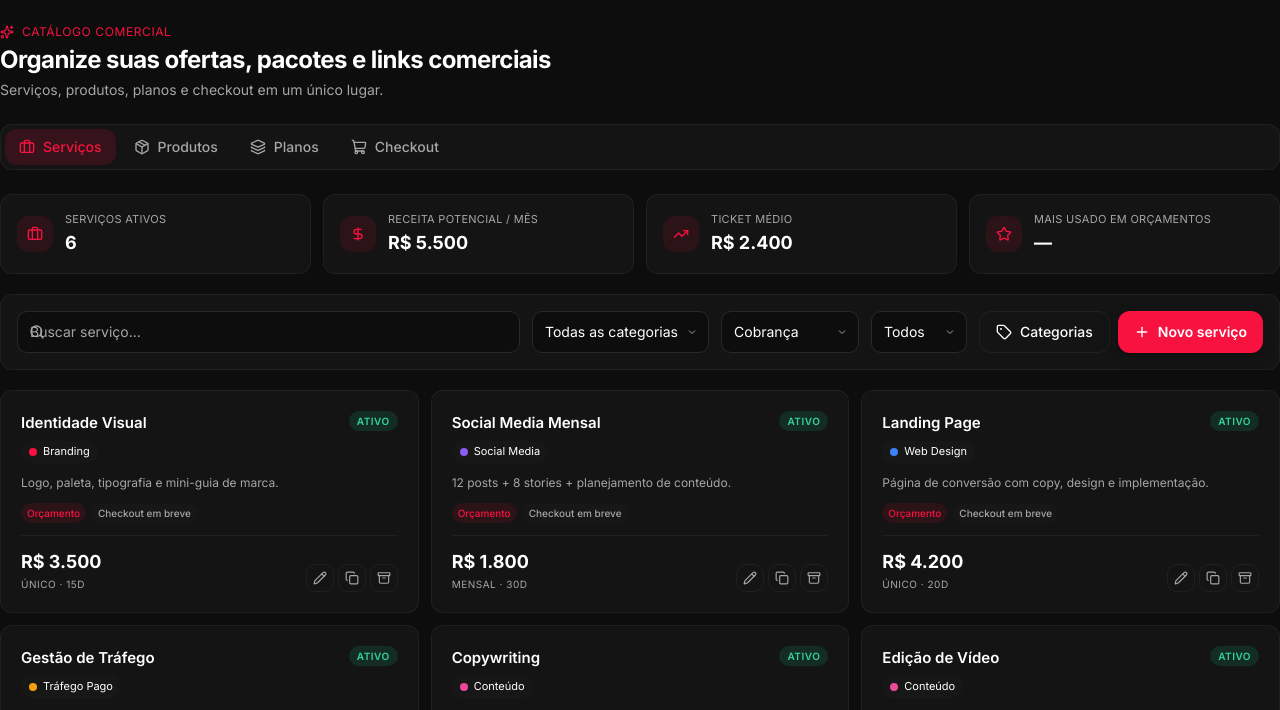
Test: Catálogo · fonte NUVEM › toggle do serviço: 'Selo interno “Portfólio” — não publica nada' (sem prometer catálogo público); badge com title
The image size is (1280, 710).
Step 1. Click the button "Novo serviço" → (1190, 332), box [1118,311,1263,353]
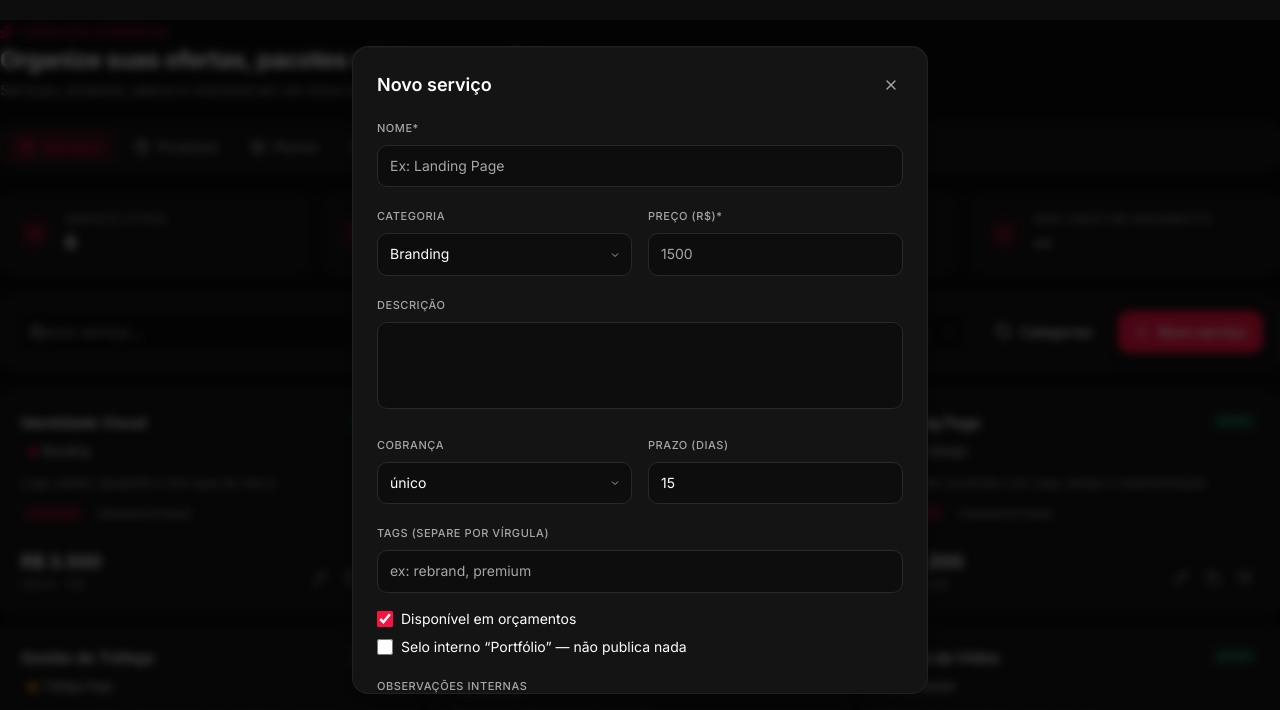
Expected: the text "Selo interno “Portfólio” — não publica nada" is shown, [377,638,687,655]
